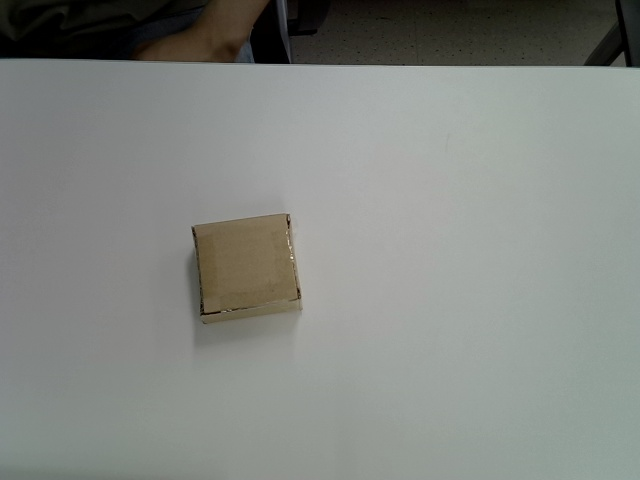normal: (191, 212, 304, 324)
